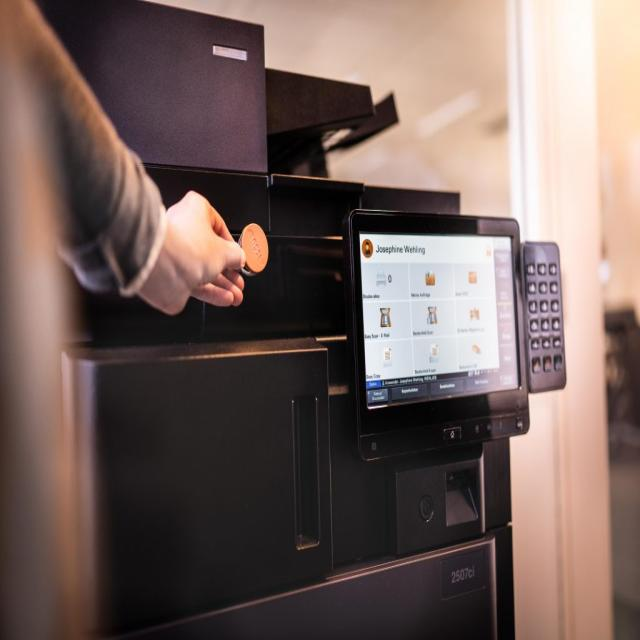printer: (4, 0, 566, 638)
